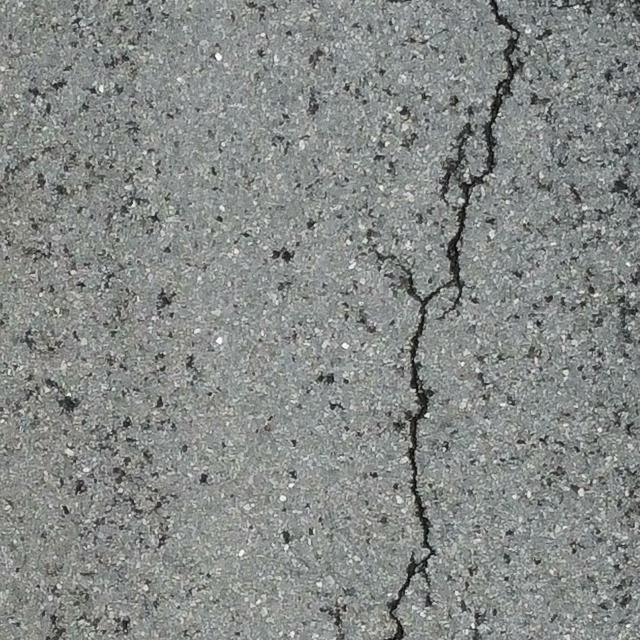LongitudinalCrack: (387, 1, 521, 639)
